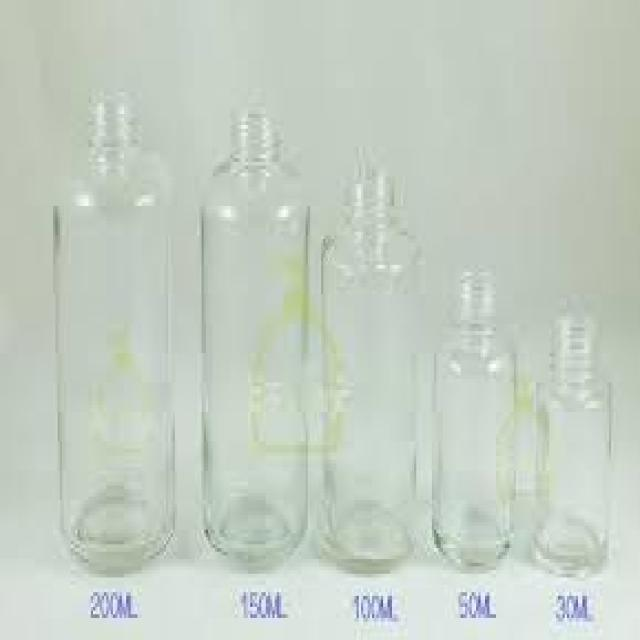glass: (49, 92, 173, 570), (199, 110, 306, 563), (317, 169, 414, 570), (430, 269, 509, 567), (532, 317, 605, 578)
